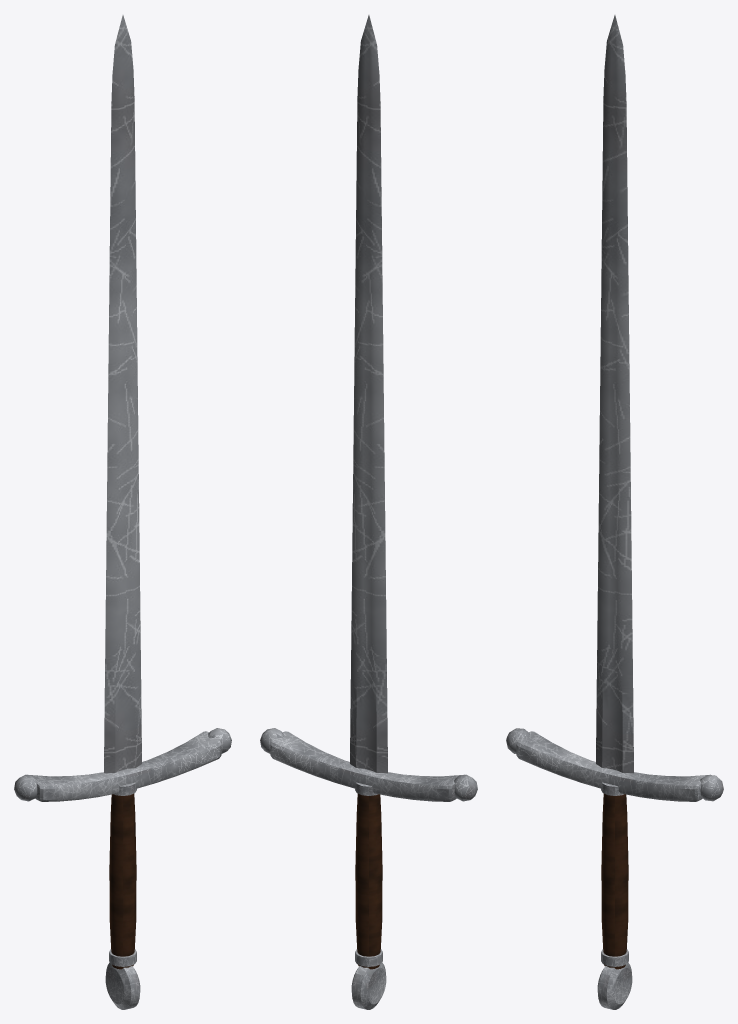
File: sword.glb
3 views of the same model, side by side, from view 1: azimuth 30°, elevation 25°; view 2: azimuth 150°, elevation 25°; view 3: azimuth 330°, elevation 25° (orthographic).
Parts seen in each view (by area): view 1: longsword; view 2: longsword; view 3: longsword.
Boxes of the visible parts, x1,y1,x2,y2 form: longsword: [14, 15, 231, 1009]; longsword: [260, 15, 477, 1009]; longsword: [506, 15, 723, 1009].
Bounding box in the file's own units: 0.2904 × 1.29 × 0.06.
3 materials, 3 textured.
